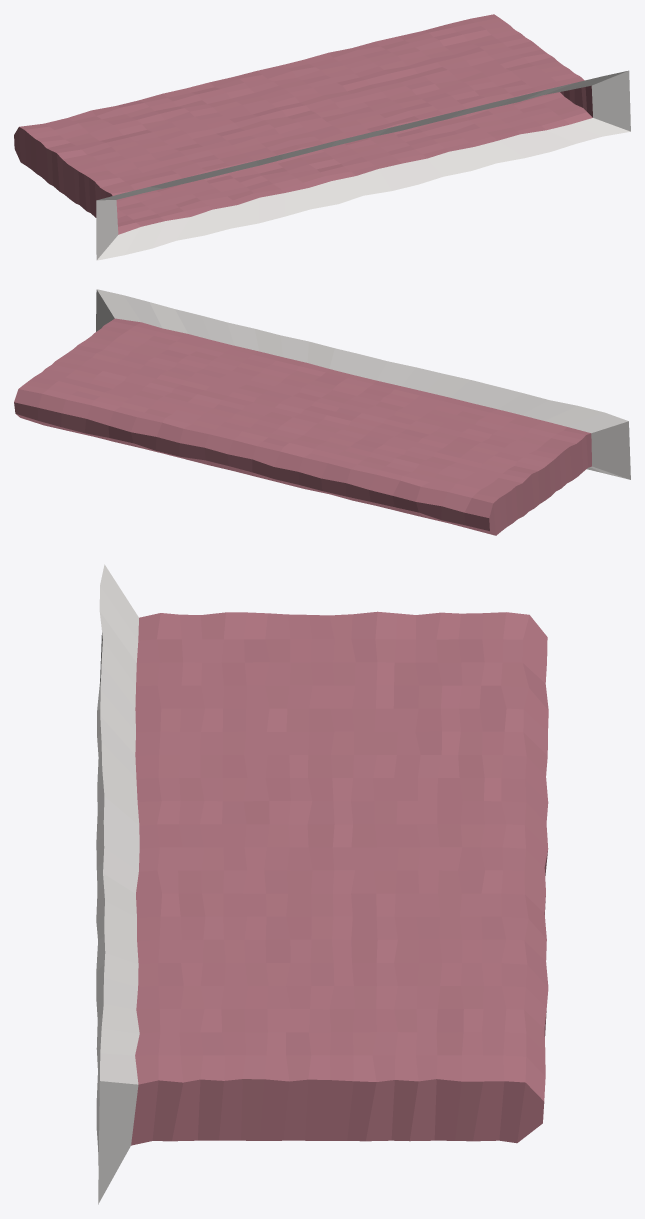
File: rocket_part_TRASH.fbx
3 views of the same model, one above another, from view 1: azimuth 30°, elevation 25°; view 2: azimuth 150°, elevation 25°; view 3: azimuth 270°, elevation 25° (orthographic). The views are drawn at different scales.
Visible parts, largest first — view 1: pCube8; view 2: pCube8; view 3: pCube8.
Boxes of the visible parts, <box> form: pCube8: <box>14,14,630,260</box>; pCube8: <box>14,289,630,535</box>; pCube8: <box>96,564,548,1204</box>.
Size of the model in its own units: 2.22 by 0.2488 by 0.8152.
